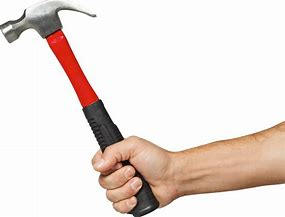hammer: (1, 1, 168, 216)
